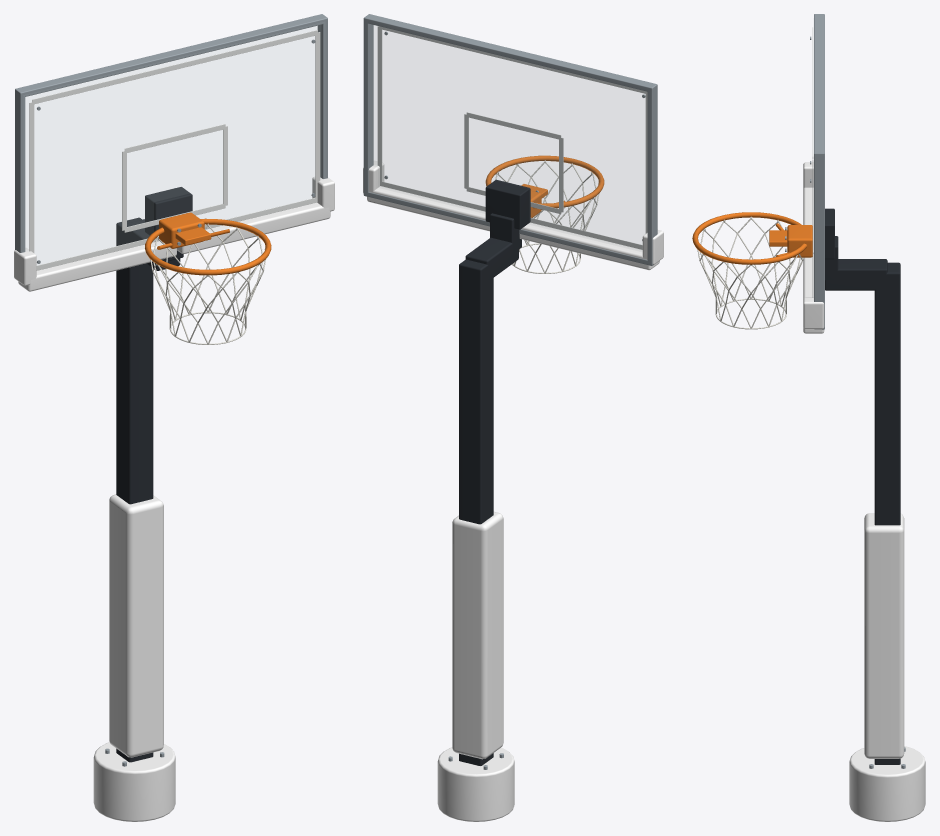
File: hoop-46cd90af.glb
3 views of the same model, side by side, from view 1: azimuth 30°, elevation 25°; view 2: azimuth 150°, elevation 25°; view 3: azimuth 270°, elevation 25° (orthographic). The views are drawn at different scales.
Parts seen in each view (by area): view 1: Inspect · Hoop · clear glass pane, Inspect · Hoop · padded stanchion, Inspect · Hoop · square steel stanchion, Inspect · Hoop · concrete footing, Inspect · Hoop · aluminium perimeter.001, Inspect · Hoop · lower edge safety pad, Inspect · Hoop · lower edge safety pad.001, Inspect · Hoop · aluminium perimeter.002, Inspect · Hoop · white perimeter marking.001, Inspect · Hoop · orange rim, Inspect · Hoop · steel rim carrier, Inspect · Hoop · aluminium perimeter.003 (+7 smaller); view 2: Inspect · Hoop · clear glass pane, Inspect · Hoop · padded stanchion, Inspect · Hoop · square steel stanchion, Inspect · Hoop · concrete footing, Inspect · Hoop · aluminium perimeter.001, Inspect · Hoop · lower edge safety pad, Inspect · Hoop · aluminium perimeter.002, Inspect · Hoop · aluminium perimeter.003, Inspect · Hoop · lower edge safety pad.001, Inspect · Hoop · steel rim carrier, Inspect · Hoop · aluminium perimeter, Inspect · Hoop · central support arm (+5 smaller); view 3: Inspect · Hoop · padded stanchion, Inspect · Hoop · square steel stanchion, Inspect · Hoop · concrete footing, Inspect · Hoop · central support arm, Inspect · Hoop · aluminium perimeter.003, Inspect · Hoop · aluminium perimeter.001, Inspect · Hoop · orange rim, Inspect · Hoop · orange breakaway housing, Inspect · Hoop · corner safety pad.001, Inspect · Hoop · lower edge safety pad.001, Inspect · Hoop · steel rim carrier, Inspect · Hoop · lower edge safety pad.
Boxes of the visible parts, x1=… form: Inspect · Hoop · clear glass pane: x1=25, y1=25, x2=320, y2=264; Inspect · Hoop · padded stanchion: x1=109, y1=494, x2=163, y2=757; Inspect · Hoop · square steel stanchion: x1=116, y1=217, x2=153, y2=762; Inspect · Hoop · concrete footing: x1=93, y1=742, x2=175, y2=821; Inspect · Hoop · aluminium perimeter.001: x1=15, y1=14, x2=327, y2=97; Inspect · Hoop · lower edge safety pad: x1=18, y1=241, x2=176, y2=291; Inspect · Hoop · lower edge safety pad.001: x1=177, y1=202, x2=330, y2=254; Inspect · Hoop · aluminium perimeter.002: x1=15, y1=93, x2=25, y2=252; Inspect · Hoop · white perimeter marking.001: x1=32, y1=30, x2=317, y2=104; Inspect · Hoop · orange rim: x1=145, y1=218, x2=271, y2=275; Inspect · Hoop · steel rim carrier: x1=145, y1=187, x2=192, y2=235; Inspect · Hoop · aluminium perimeter.003: x1=317, y1=21, x2=327, y2=178; Inspect · Hoop · clear glass pane: x1=374, y1=26, x2=646, y2=249; Inspect · Hoop · padded stanchion: x1=452, y1=511, x2=503, y2=759; Inspect · Hoop · square steel stanchion: x1=459, y1=259, x2=493, y2=765; Inspect · Hoop · concrete footing: x1=437, y1=747, x2=514, y2=821; Inspect · Hoop · aluminium perimeter.001: x1=363, y1=14, x2=657, y2=92; Inspect · Hoop · lower edge safety pad: x1=519, y1=222, x2=659, y2=270; Inspect · Hoop · aluminium perimeter.002: x1=647, y1=88, x2=657, y2=262; Inspect · Hoop · aluminium perimeter.003: x1=363, y1=21, x2=373, y2=193; Inspect · Hoop · lower edge safety pad.001: x1=367, y1=186, x2=489, y2=231; Inspect · Hoop · steel rim carrier: x1=485, y1=179, x2=530, y2=229; Inspect · Hoop · aluminium perimeter: x1=363, y1=192, x2=653, y2=265; Inspect · Hoop · central support arm: x1=465, y1=237, x2=518, y2=280; Inspect · Hoop · padded stanchion: x1=864, y1=513, x2=904, y2=758; Inspect · Hoop · square steel stanchion: x1=874, y1=262, x2=900, y2=764; Inspect · Hoop · concrete footing: x1=849, y1=746, x2=925, y2=821; Inspect · Hoop · central support arm: x1=825, y1=259, x2=887, y2=290; Inspect · Hoop · aluminium perimeter.003: x1=814, y1=156, x2=824, y2=325; Inspect · Hoop · aluminium perimeter.001: x1=814, y1=14, x2=824, y2=157; Inspect · Hoop · orange rim: x1=692, y1=212, x2=807, y2=264; Inspect · Hoop · orange breakaway housing: x1=787, y1=225, x2=812, y2=257; Inspect · Hoop · corner safety pad.001: x1=803, y1=297, x2=824, y2=329; Inspect · Hoop · lower edge safety pad.001: x1=803, y1=254, x2=824, y2=333; Inspect · Hoop · steel rim carrier: x1=825, y1=208, x2=834, y2=259; Inspect · Hoop · lower edge safety pad: x1=803, y1=187, x2=813, y2=253.
Bounding box in the file's own units: 1.67 × 3.98 × 1.16.
